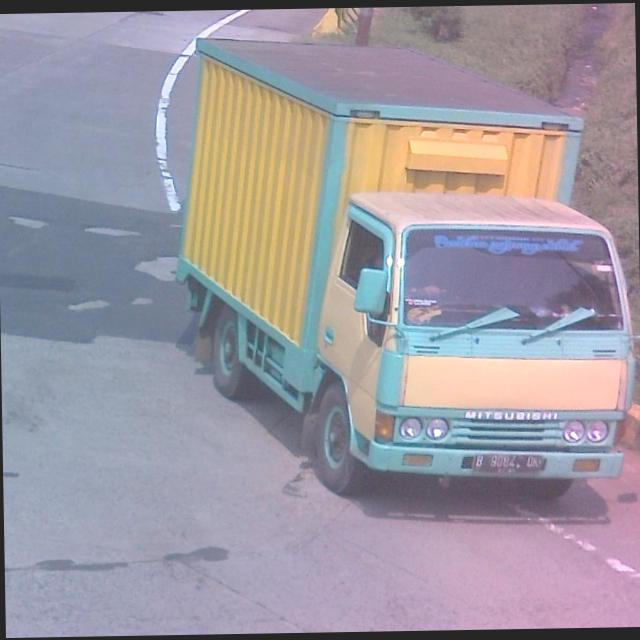plate: (470, 448, 551, 478)
